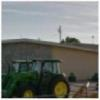tractors: (3, 59, 74, 99)
